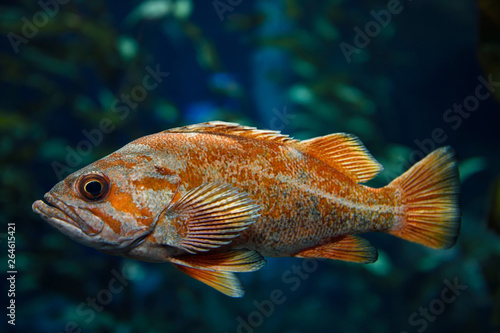Rock Fish: (37, 129, 487, 297)
